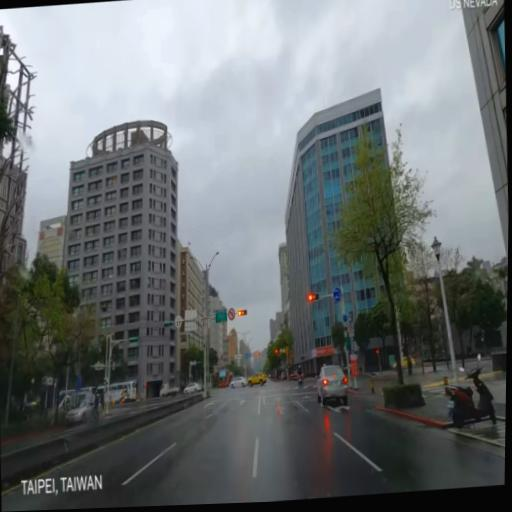Car: (54, 381, 97, 415), (315, 363, 348, 404), (93, 379, 137, 406), (63, 395, 100, 426), (159, 378, 180, 398), (247, 370, 266, 386), (182, 381, 201, 394), (229, 376, 246, 390), (218, 368, 230, 387), (278, 370, 286, 380)
